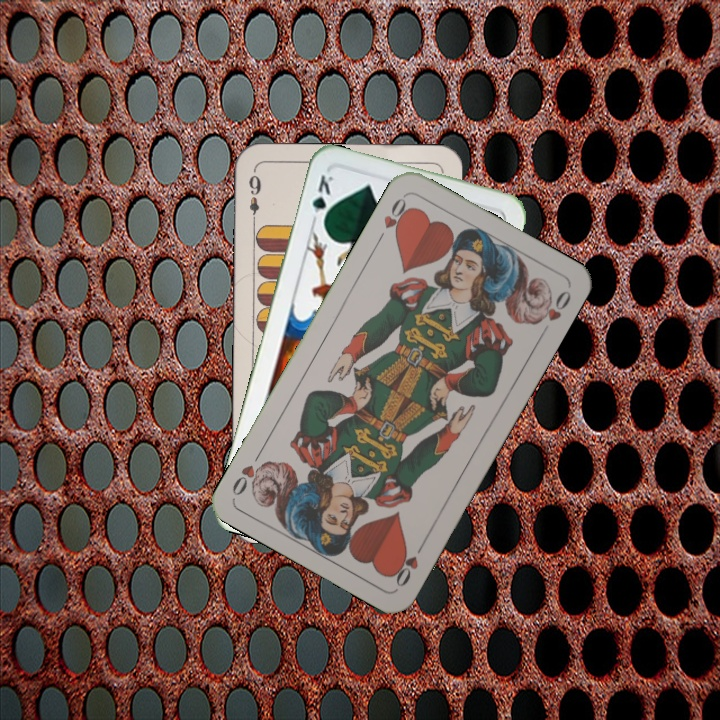E9: (245, 168, 264, 227)
GK: (308, 170, 336, 228)
HO: (373, 192, 414, 246), (388, 537, 429, 590)
